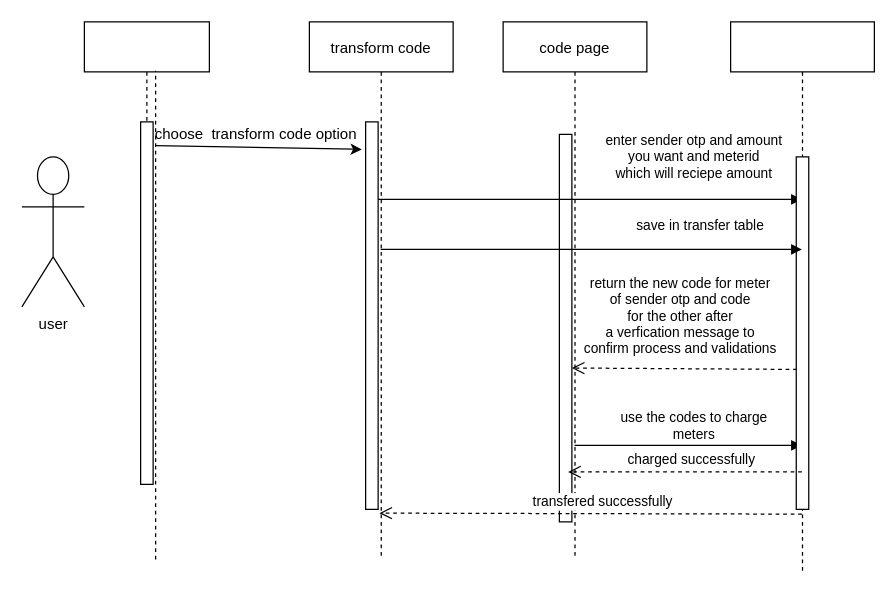
Some shapes in this 896 by 594 pixel diagram are drawn without their labels. The shapes that lost their labels are listed below. From the top down, each one's box as (x1, y1, x2, y2) in pixels, then its label:
(83, 21, 209, 484): main page
(729, 21, 874, 572): database
